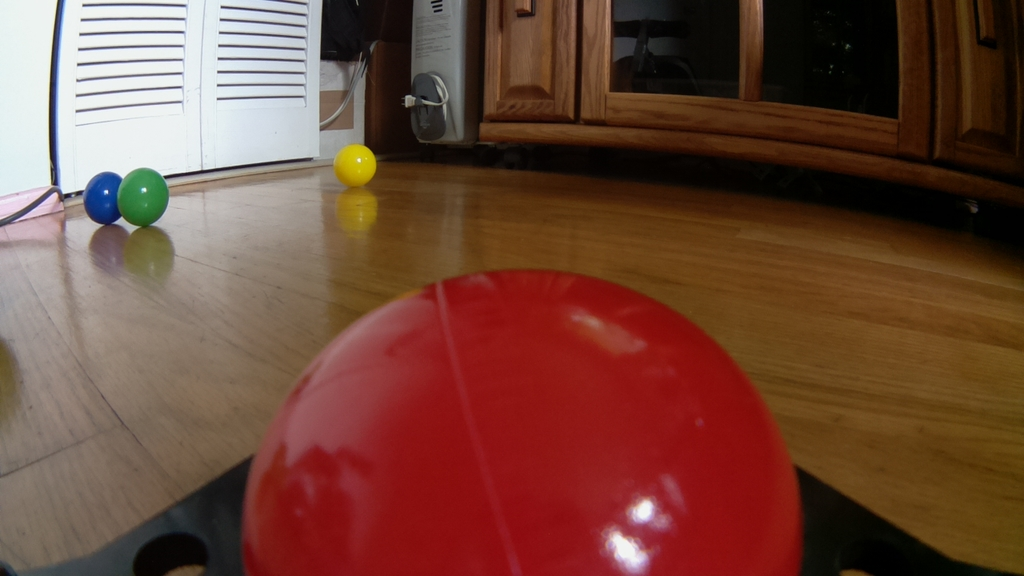ball: (330, 140, 379, 189)
